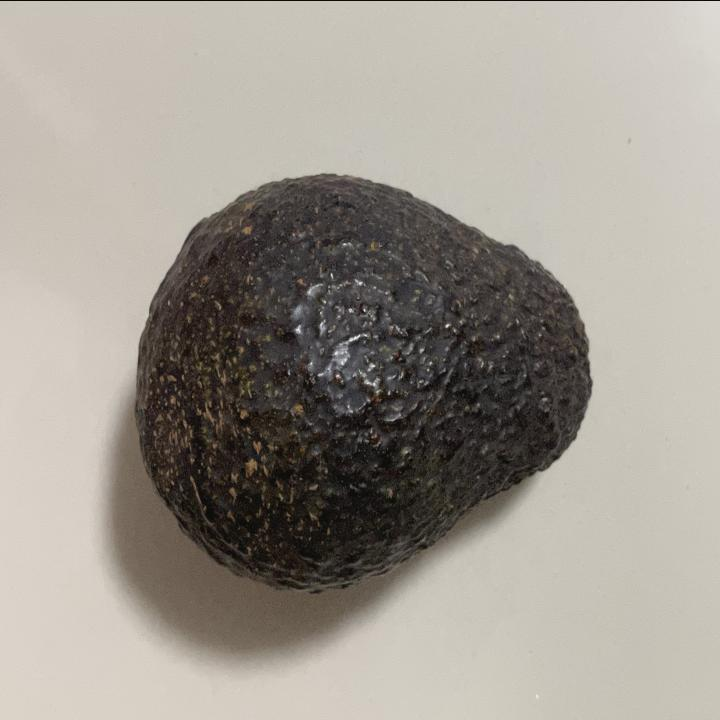Level2: (129, 163, 609, 603)
